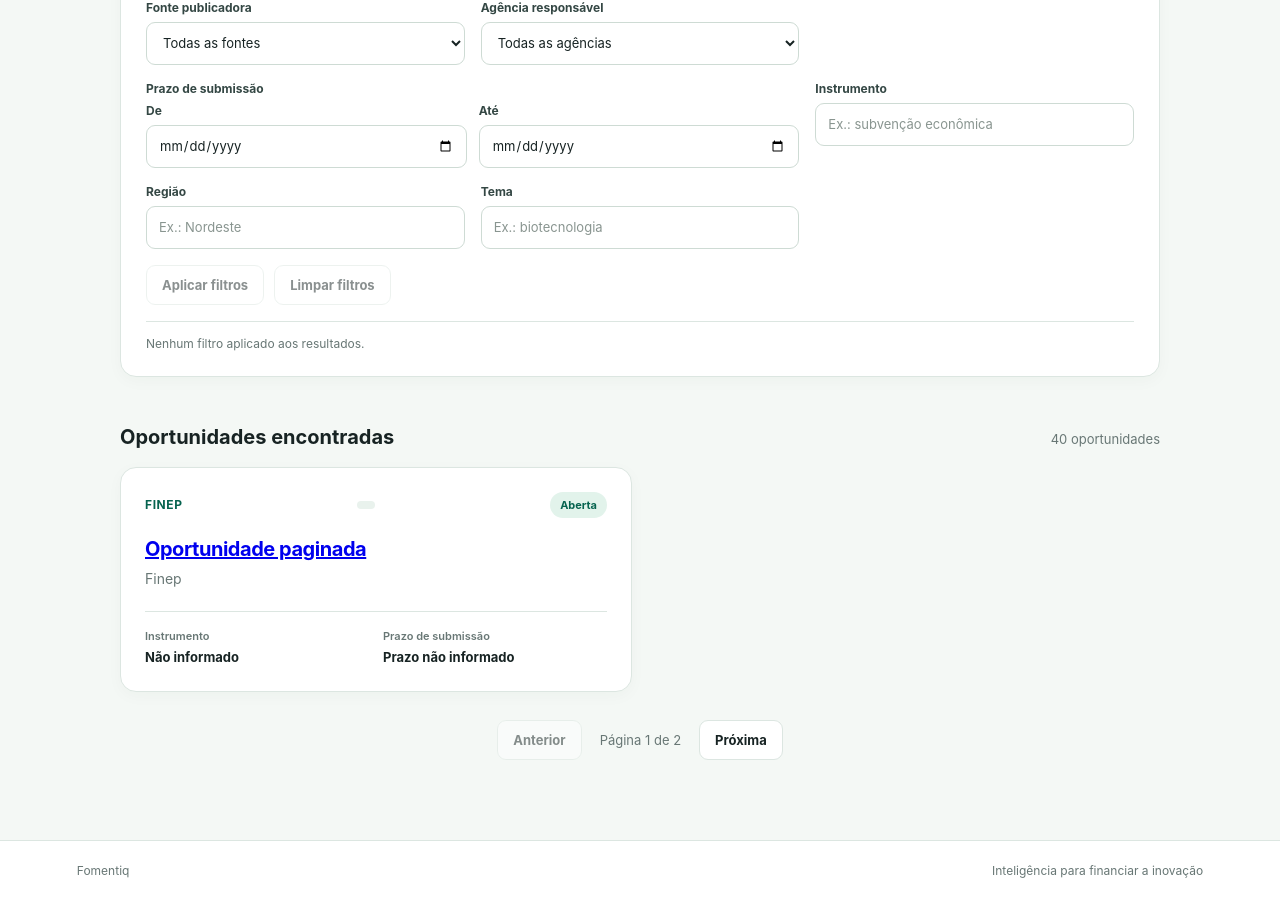
opportunity catalog › resets to the first page when an applied filter changes
This screenshot has width=1280, height=900.
(page scrolled)
Expected: the heading "Oportunidade paginada" is shown, [145,537,366,561]
Click the button "Próxima" at (741, 740), box [699,720,783,760]
(page scrolled)
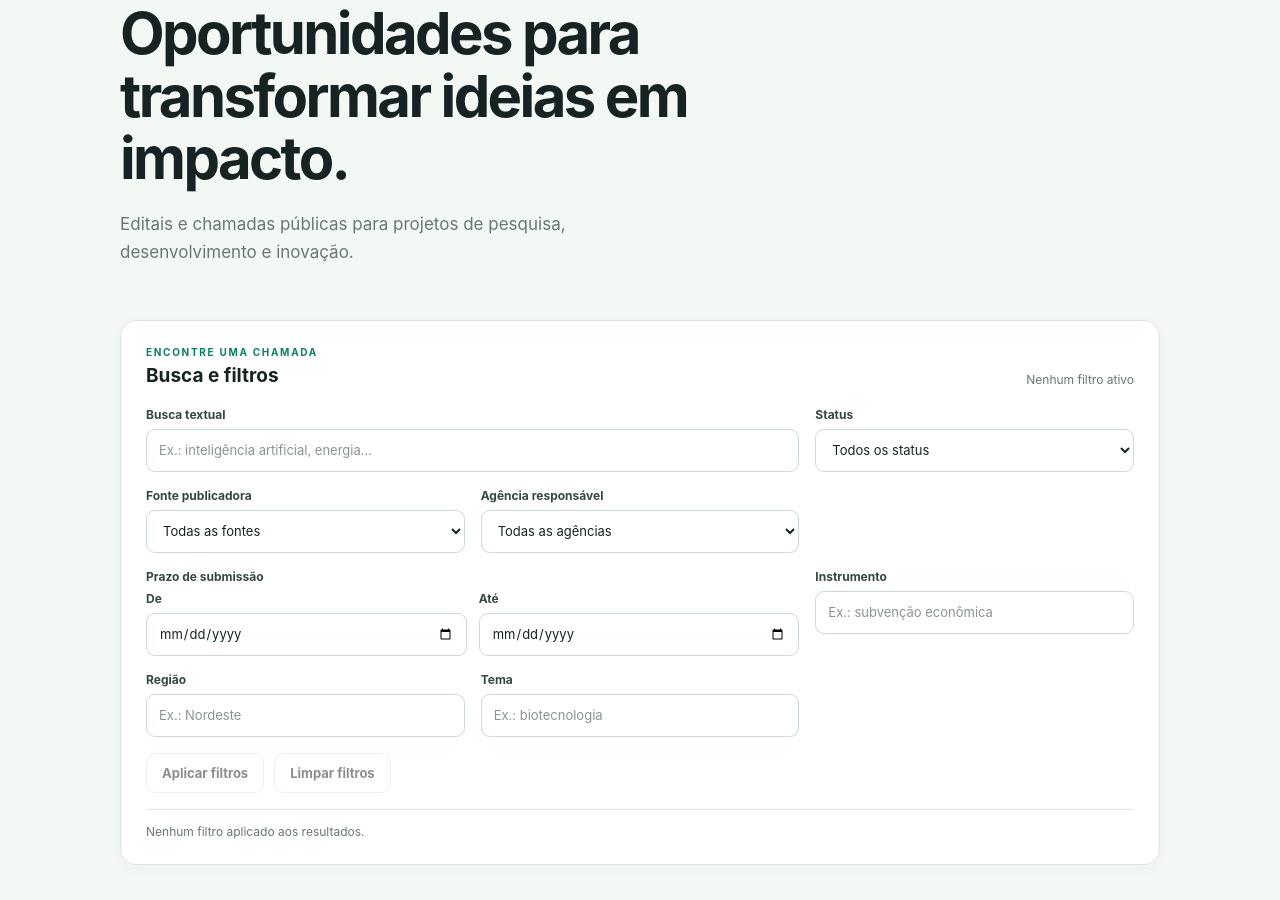
Type "energia" into the search field labelled "Busca textual" at (473, 450), box [146,429,799,472]
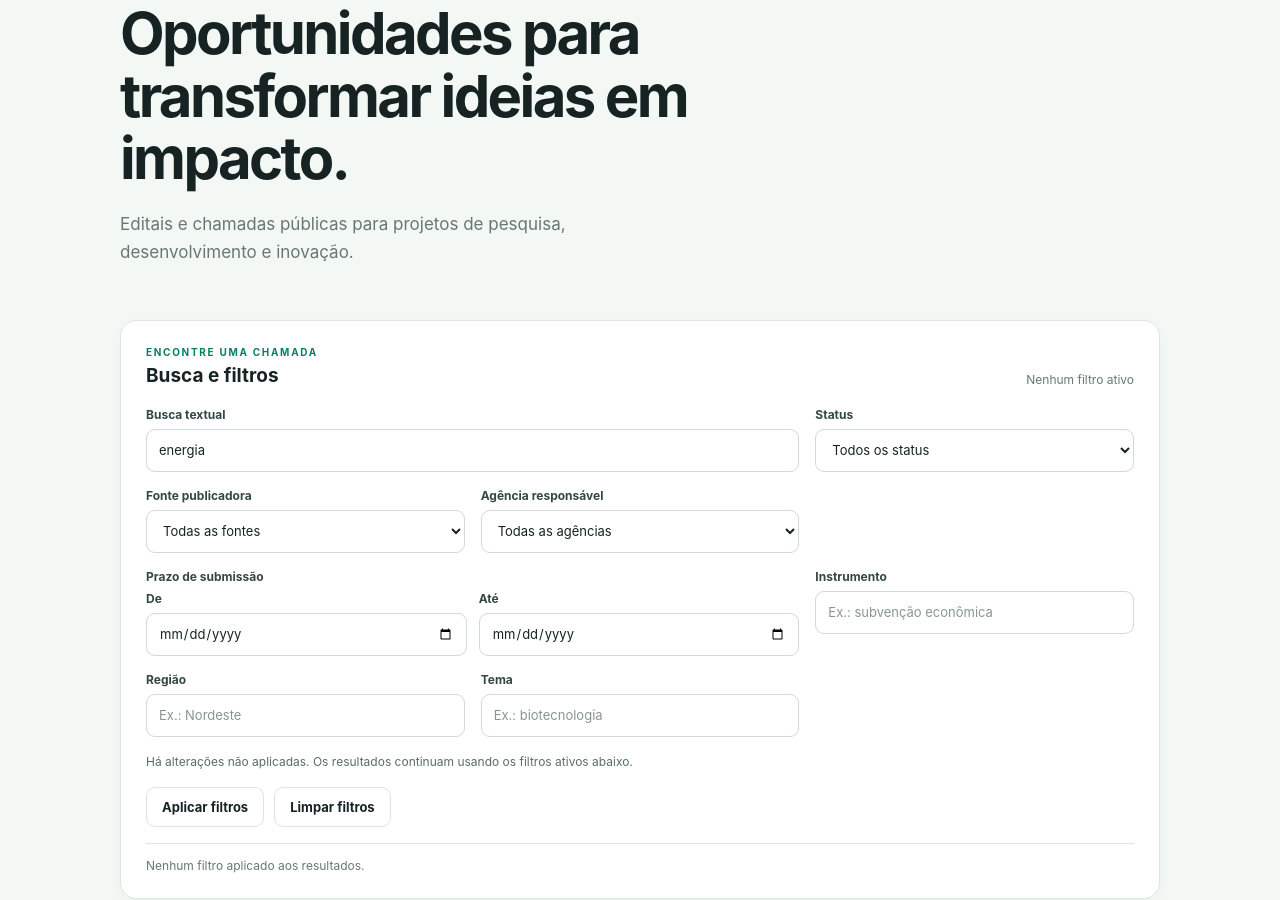
Click the button "Aplicar filtros" at (205, 807), box [146,787,264,827]
(page scrolled)
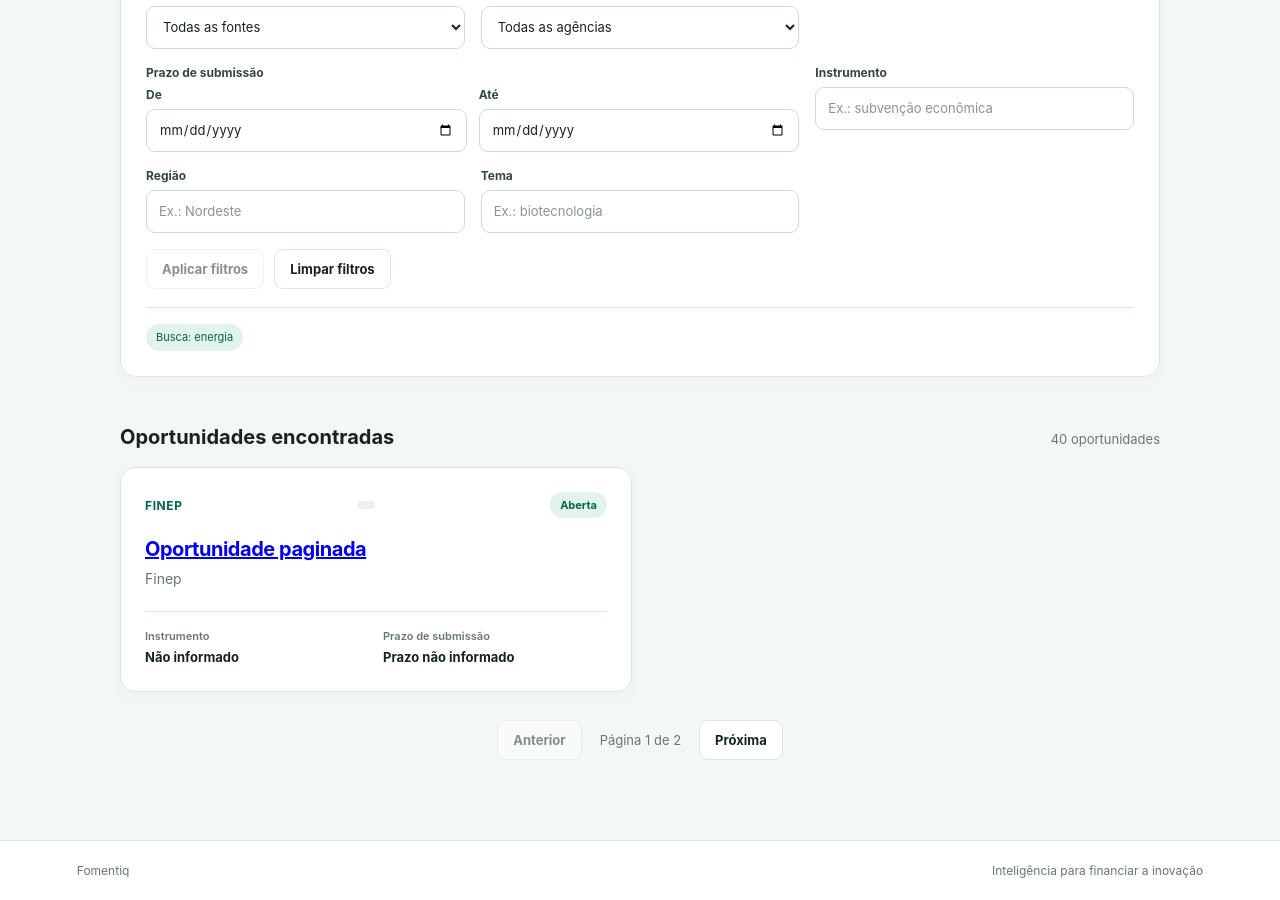
Now the text "Página 1 de 2" is shown, box [600,732,681,748]
